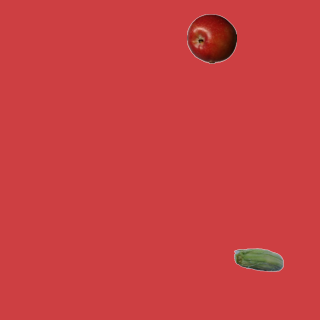Apple Braeburn: (186, 13, 236, 63)
Corn Husk: (233, 236, 283, 286)
